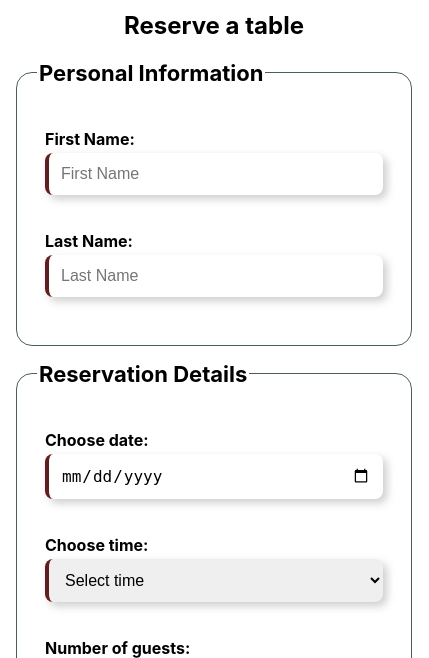
Test: Error fields › show error for past date
Type "2025-01-01" into the date field labelled "Choose date:" at [214, 476], box 45,454 -> 383,499
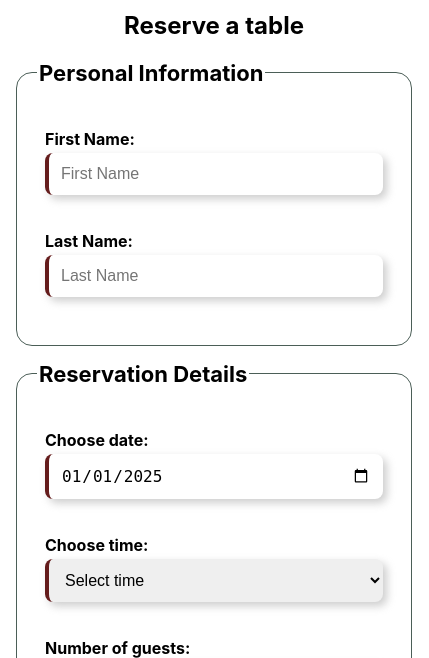
Leave the date field labelled "Choose date:", box 45,454 -> 383,499
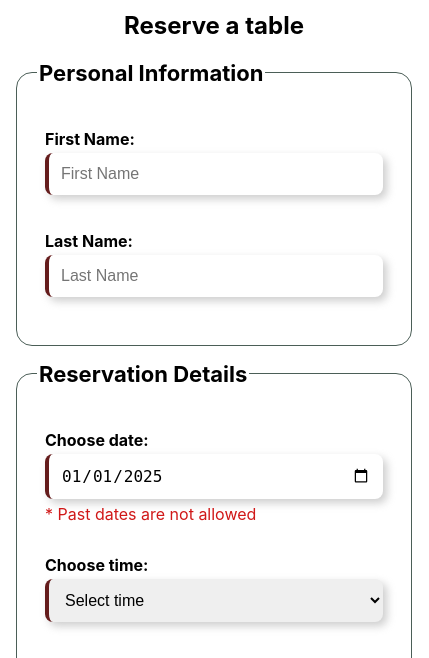
Now the text "* Past dates are not allowed" is shown, box 45,504 -> 256,524
